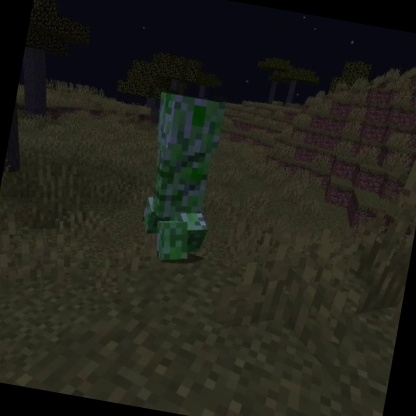creeper: (128, 87, 234, 270)
